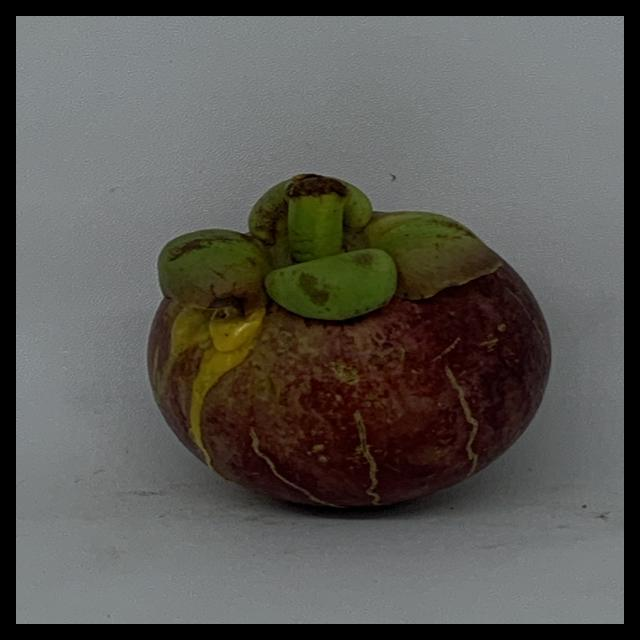mangosteen: (144, 101, 567, 526)
